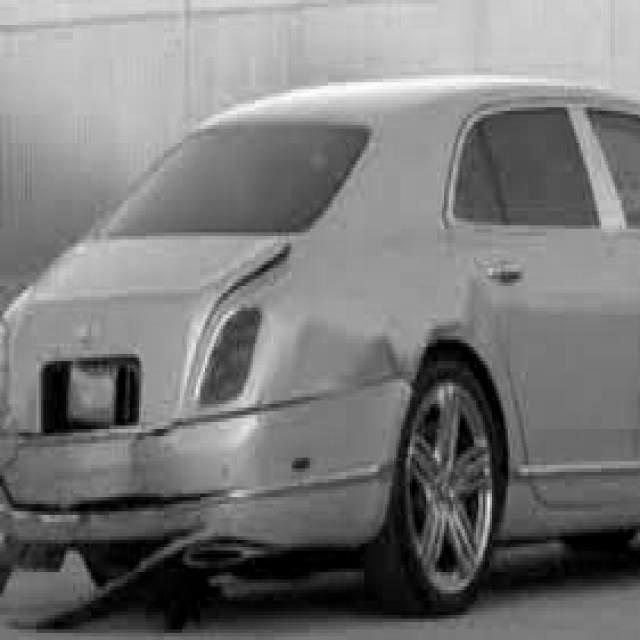boot-dent: (185, 238, 289, 297)
quaterpanel-dent: (275, 277, 473, 410)
rear-bumper-dent: (1, 434, 252, 577)
